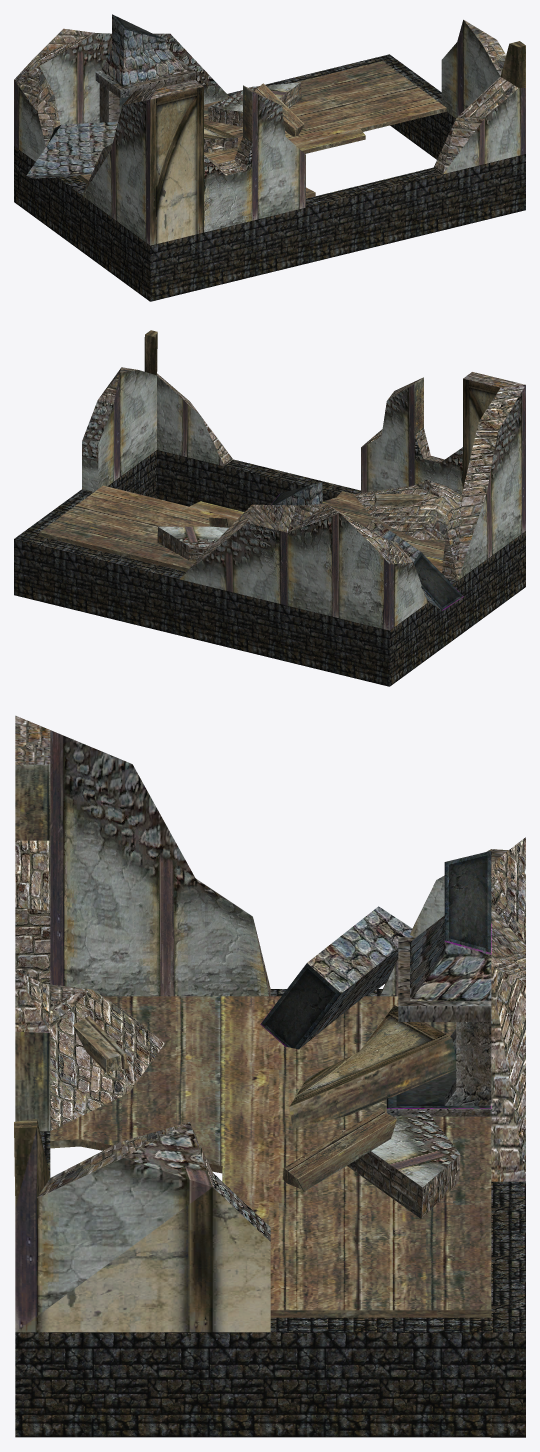
Rendered from S_Ruin09.glb.
The picture shows the model from 3 angles, top to bottom: view 1: azimuth 30°, elevation 25°; view 2: azimuth 150°, elevation 25°; view 3: azimuth 270°, elevation 25°; orthographic projection. The views are drawn at different scales.
Visible parts, largest first — view 1: S_Ruin09; view 2: S_Ruin09; view 3: S_Ruin09.
Part boxes in pixels (box(x1,y1,x2,y2)): S_Ruin09: box(14, 14, 525, 301); S_Ruin09: box(14, 330, 525, 686); S_Ruin09: box(14, 715, 525, 1437).
Size of the model in its own units: 7.58 by 3.6 by 4.41.
Materials: 10 (10 with a texture image).
